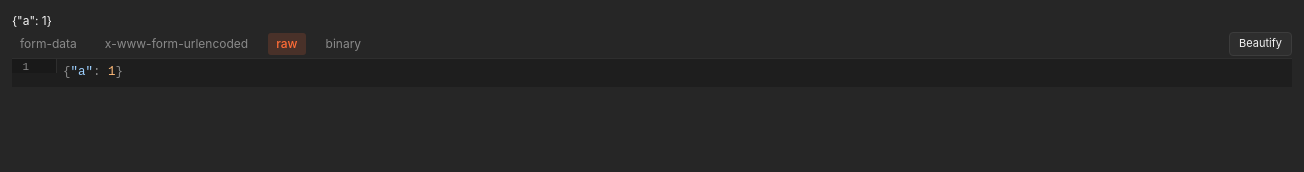
Scenario: BodyEditor raw mode › remounts the editor after leaving raw and coming back
Expected: the field named "Raw body" reads "{\"a\": 1}", [63,65,123,79]
Click the tab "form-data" at (48, 44), box [12,33,85,55]
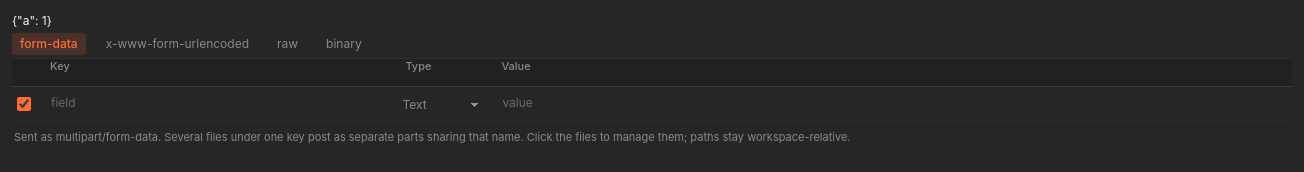
Click the tab "raw" at (288, 44), box [269,33,306,55]
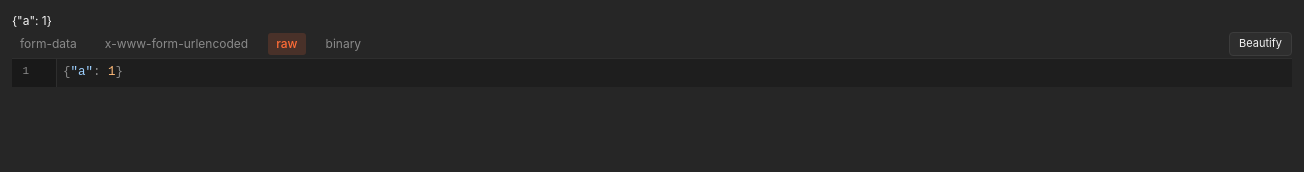
Now the field named "Raw body" reads "{\"a\": 1}", box [63,65,123,79]
